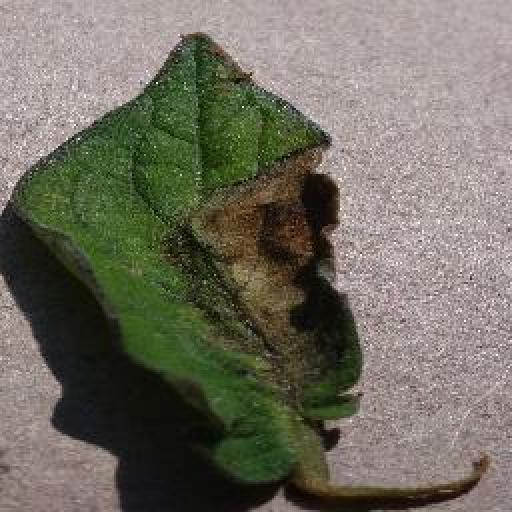Late Blight: (8, 26, 490, 512)
